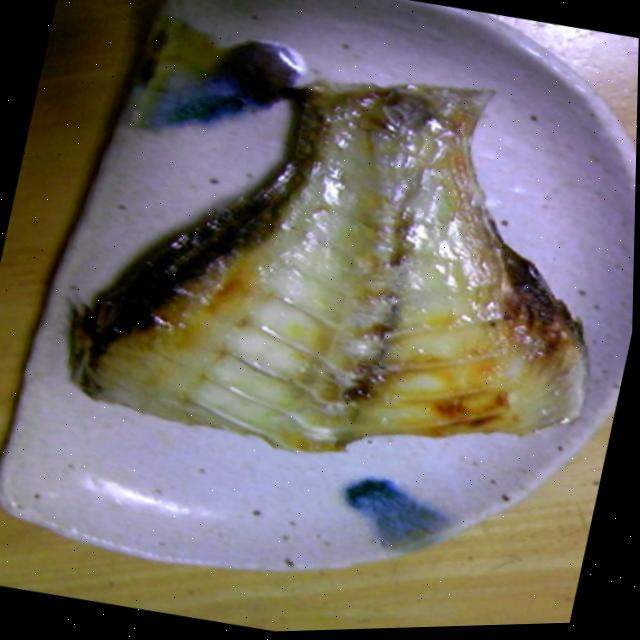熟制海鲜: (40, 18, 639, 532)
